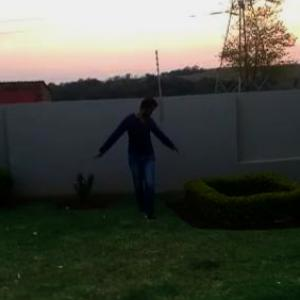land: (92, 94, 188, 228)
